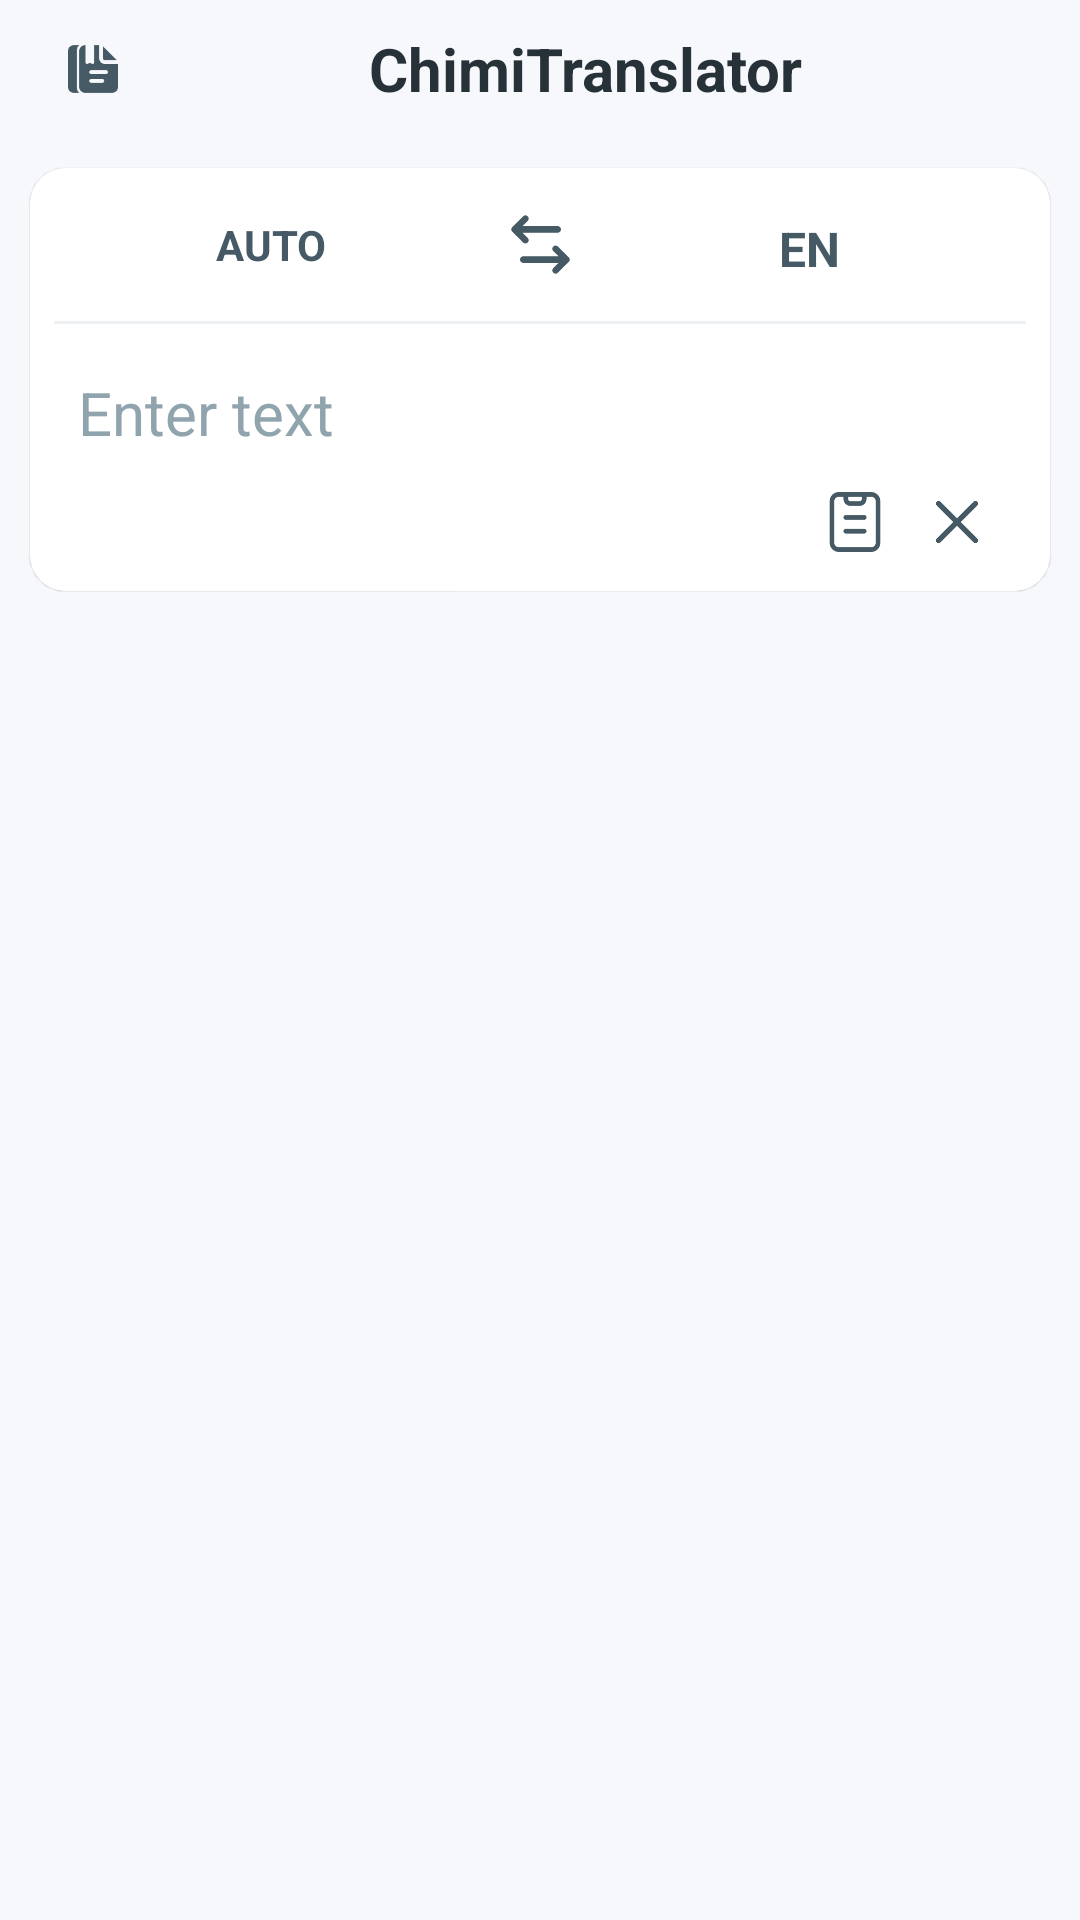

Where icons sit on this 1080x1920 app screen, as Rect(x1, y1, x2, y2):
close: Rect(936, 501, 978, 543)
paste: Rect(829, 492, 881, 552)
swap: Rect(511, 215, 570, 274)
